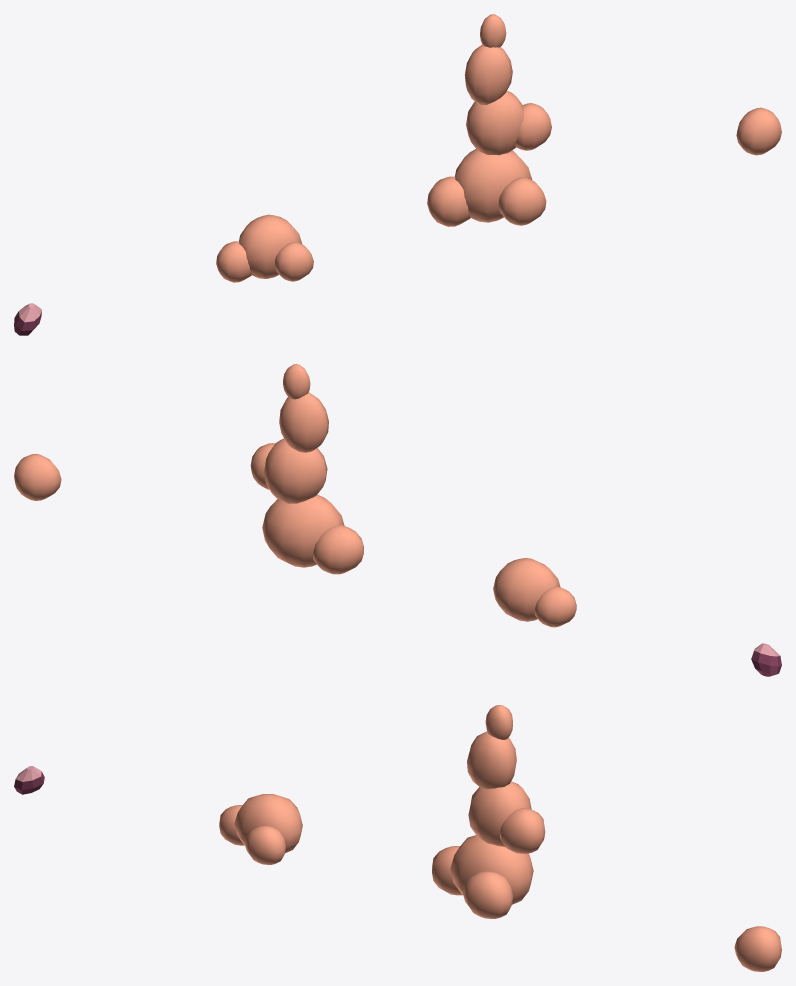
3 renders of one model, top to bottom at view 1: azimuth 30°, elevation 25°; view 2: azimuth 150°, elevation 25°; view 3: azimuth 330°, elevation 25°, orthographic.
Parts seen in each view (by area): view 1: J_3, J_2, J_4, J_1; view 2: J_3, J_2, J_4, J_1; view 3: J_3, J_2, J_4, J_1.
Part boxes in pixels (bbox=[...]): J_3: bbox=[427, 14, 551, 226]; J_2: bbox=[216, 214, 313, 282]; J_4: bbox=[736, 107, 781, 155]; J_1: bbox=[14, 303, 41, 335]; J_3: bbox=[250, 364, 363, 574]; J_2: bbox=[493, 558, 576, 627]; J_4: bbox=[14, 453, 61, 500]; J_1: bbox=[751, 643, 781, 676]; J_3: bbox=[432, 705, 545, 918]; J_2: bbox=[219, 794, 302, 864]; J_4: bbox=[734, 926, 781, 971]; J_1: bbox=[14, 766, 44, 794].
Size of the model in its own units: 315 by 79.61 by 33.74.
